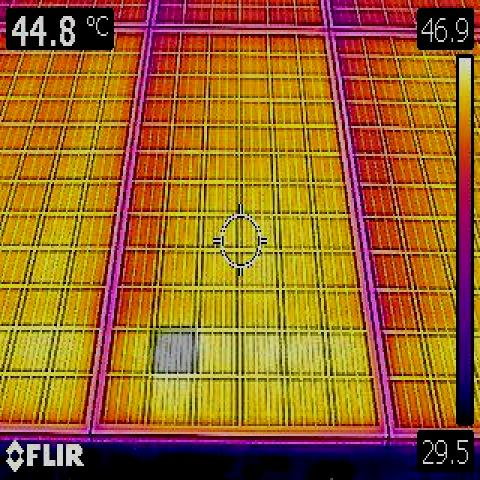fault: (150, 326, 197, 373)
